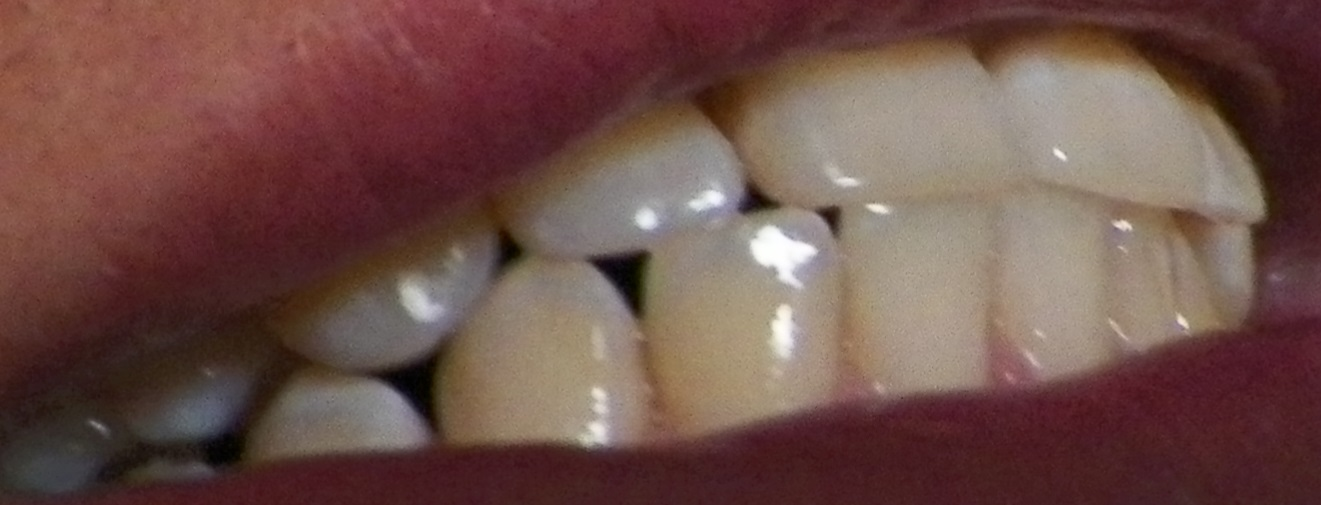boca: (16, 30, 1265, 489)
